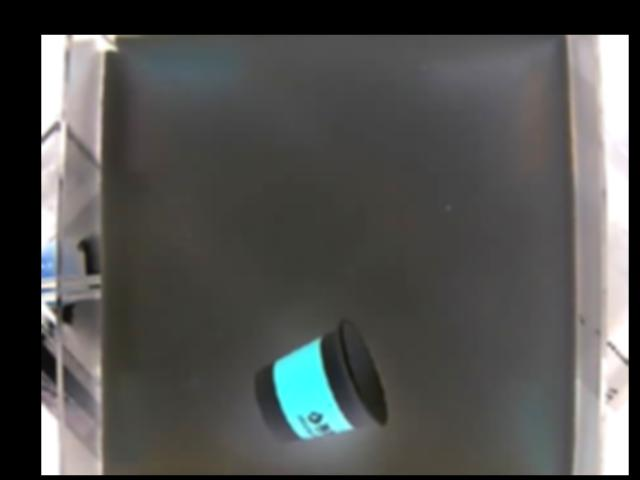Cup: (259, 320, 389, 442)
